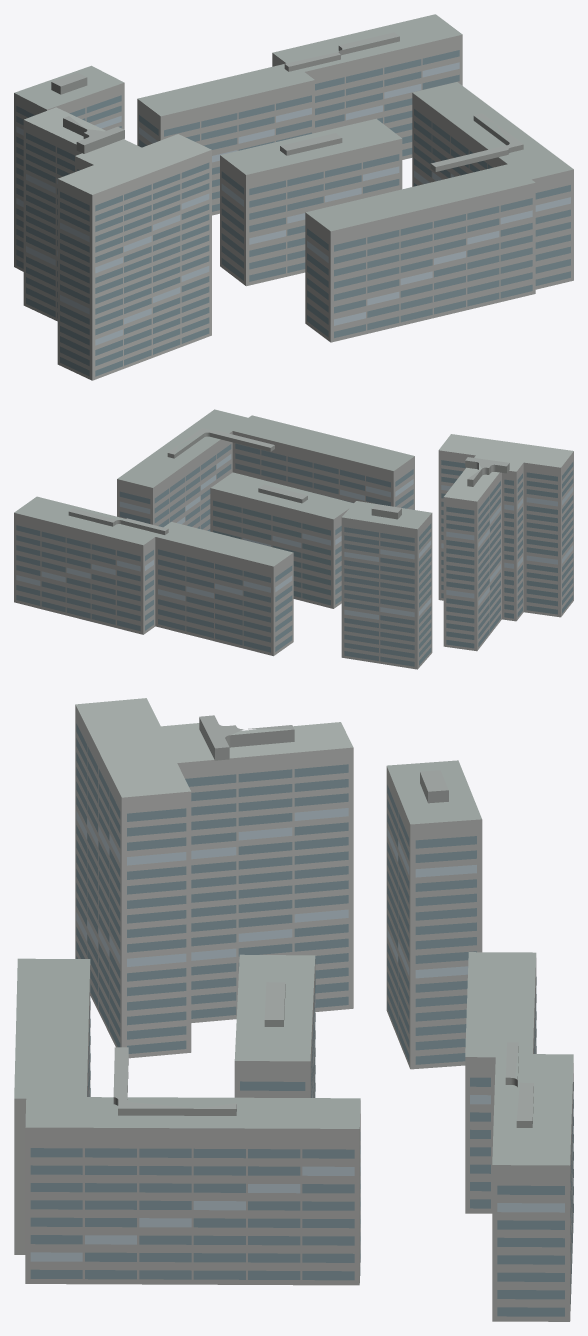
File: apt-a13922901.glb
The picture shows the model from 3 angles, top to bottom: view 1: azimuth 30°, elevation 25°; view 2: azimuth 150°, elevation 25°; view 3: azimuth 270°, elevation 25°; orthographic projection. The views are drawn at different scales.
Parts seen in each view (by area): view 1: apt-a13922901; view 2: apt-a13922901; view 3: apt-a13922901.
Part boxes in pixels (box(x1,y1,x2,y2)): apt-a13922901: box(14, 14, 573, 380); apt-a13922901: box(14, 409, 573, 669); apt-a13922901: box(14, 698, 573, 1321).
Bounding box in the file's own units: 136 × 48 × 89.05.
